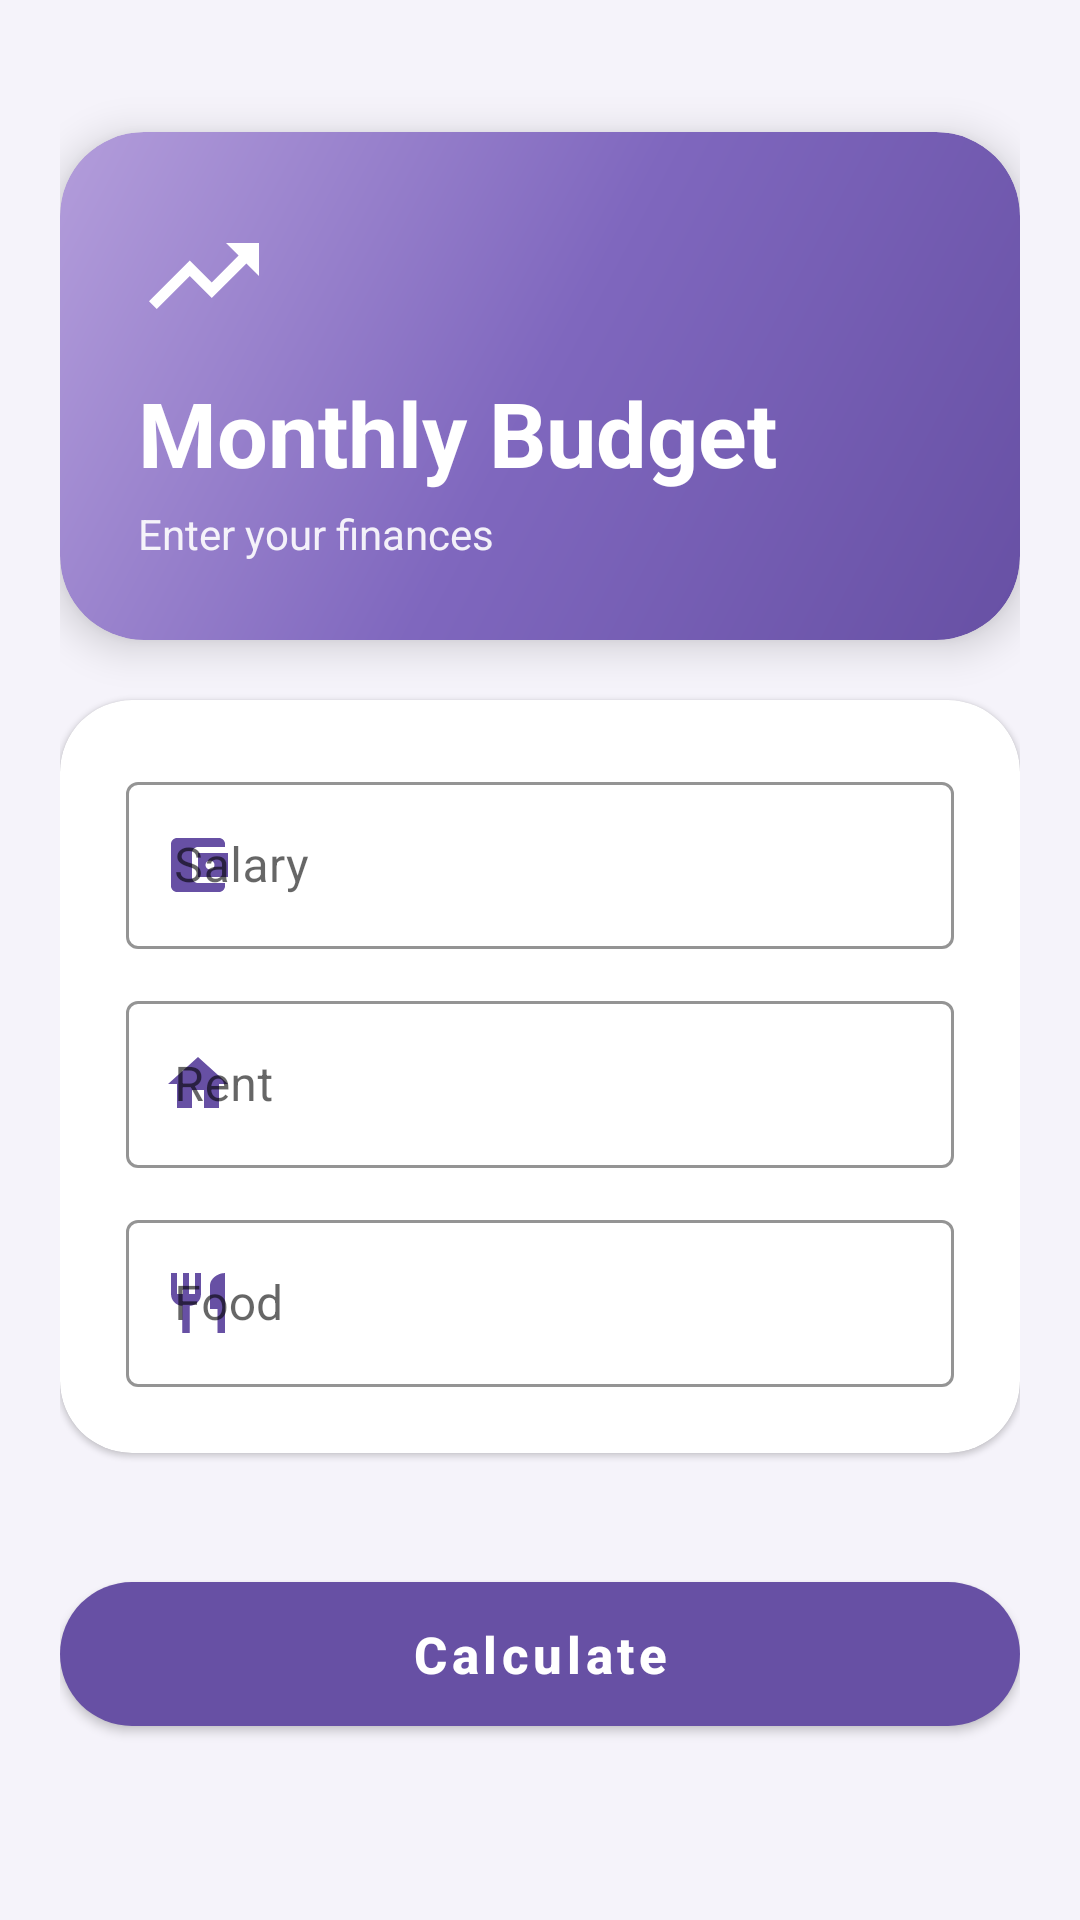

Icons on this 1080px×1920px Android screen, each with its box as (x1, y1, x2, y2):
trend: (149, 243, 259, 309)
